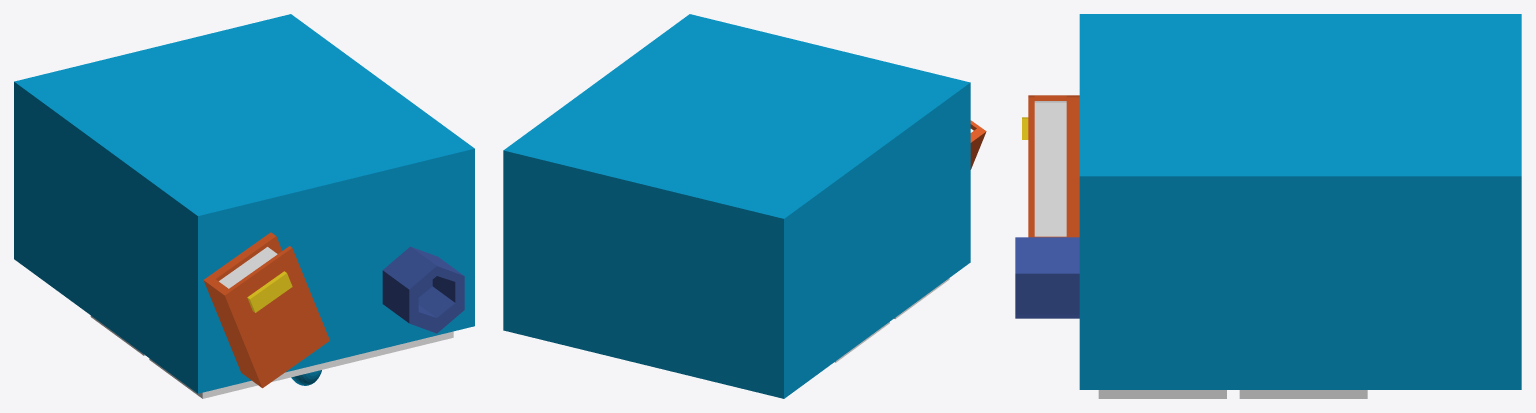
File: tinker.obj
The picture shows the model from 3 angles, left to right: view 1: azimuth 30°, elevation 25°; view 2: azimuth 150°, elevation 25°; view 3: azimuth 270°, elevation 25°; orthographic projection. The views are drawn at different scales.
Parts seen in each view (by area): view 1: group_0_40919, group_0_14900002, group_0_3888547, group_0_16448250, group_0_16768282; view 2: group_0_40919, group_0_14900002; view 3: group_0_40919, group_0_16448250, group_0_3888547, group_0_14900002.
Part boxes in pixels (x1,y1,x2,y2): group_0_40919: (14,14,474,393); group_0_14900002: (203,232,329,388); group_0_3888547: (382,246,464,333); group_0_16448250: (90,247,453,398); group_0_16768282: (247,271,292,312); group_0_40919: (503,14,970,398); group_0_14900002: (970,120,986,169); group_0_40919: (1079,14,1521,389); group_0_16448250: (1034,101,1367,398); group_0_3888547: (1015,237,1079,318); group_0_14900002: (1028,95,1079,237).
Size of the model in its own units: 60 by 47 by 79.
